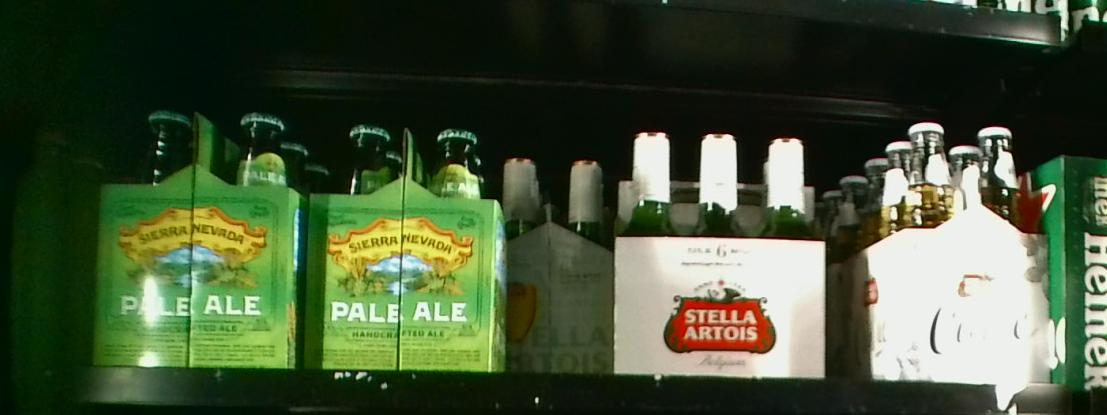bottle: (827, 121, 1046, 382), (95, 108, 307, 366), (615, 129, 825, 378), (309, 122, 504, 370), (504, 153, 615, 373)
